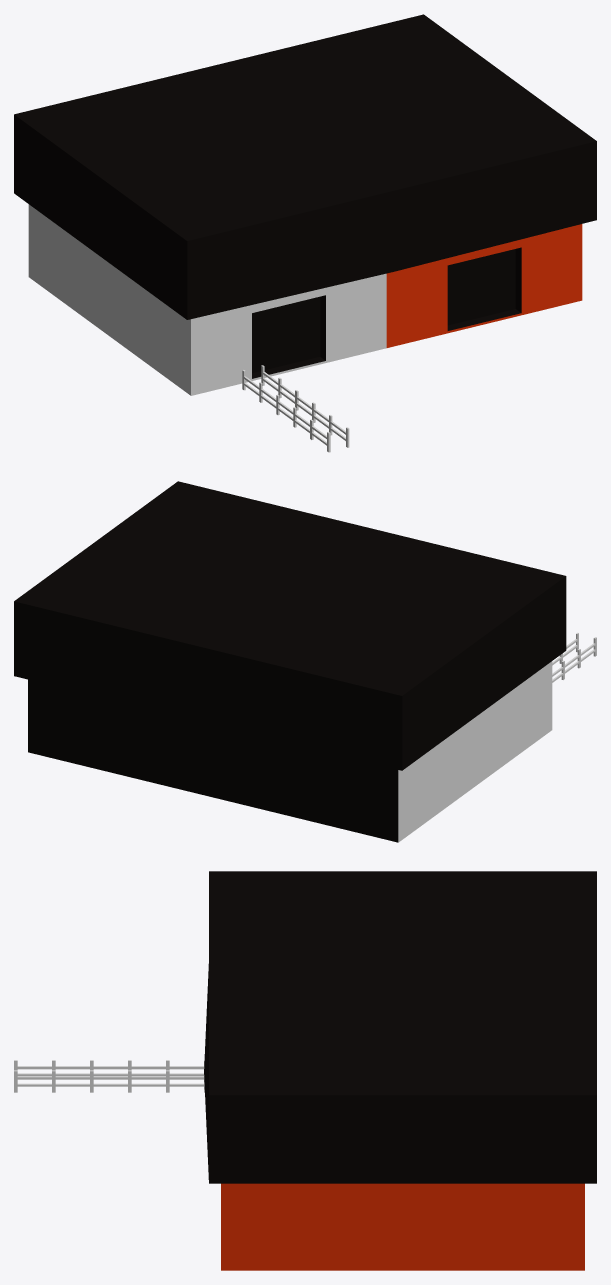
The model's file is loja_30.fbx.
The picture shows the model from 3 angles, top to bottom: view 1: azimuth 30°, elevation 25°; view 2: azimuth 150°, elevation 25°; view 3: azimuth 270°, elevation 25°; orthographic projection. The views are drawn at different scales.
Visible parts, largest first — view 1: Cube; view 2: Cube; view 3: Cube.
Boxes of the visible parts, x1=… form: Cube: x1=14, y1=14, x2=596, y2=452; Cube: x1=14, y1=481, x2=596, y2=842; Cube: x1=14, y1=871, x2=596, y2=1270.
Size of the model in its own units: 5270 by 1979 by 5796.
